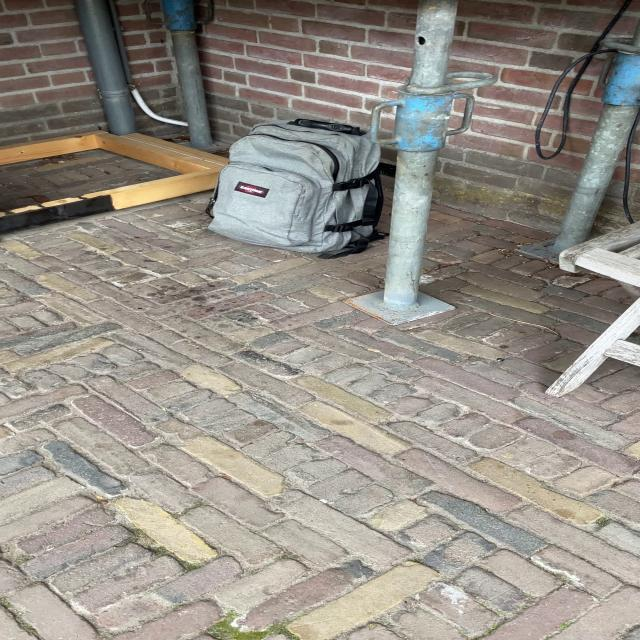backpack: (197, 112, 392, 260)
